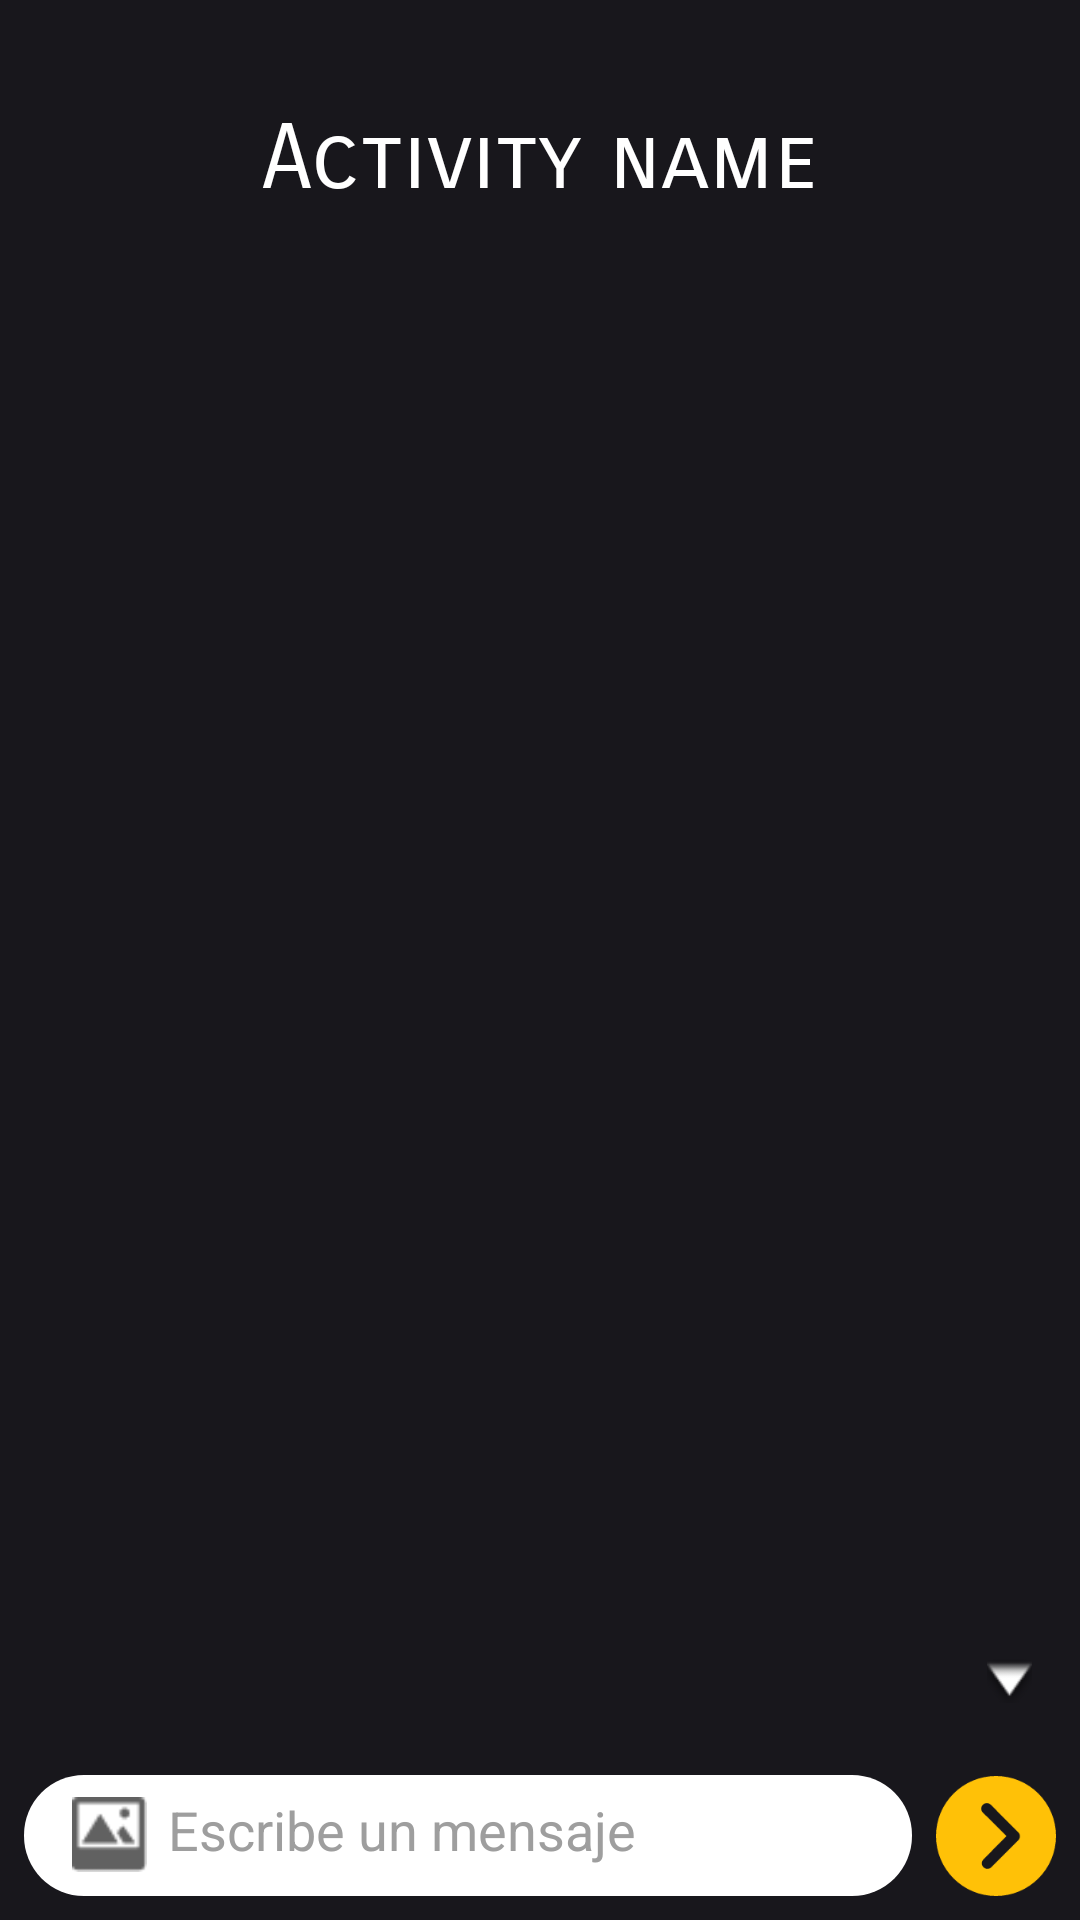

Screen size 1080 × 1920. Icon name, then its center in pixels as point (x, y):
arrow: point (996, 1836)
arrow down float: point (1009, 1679)
